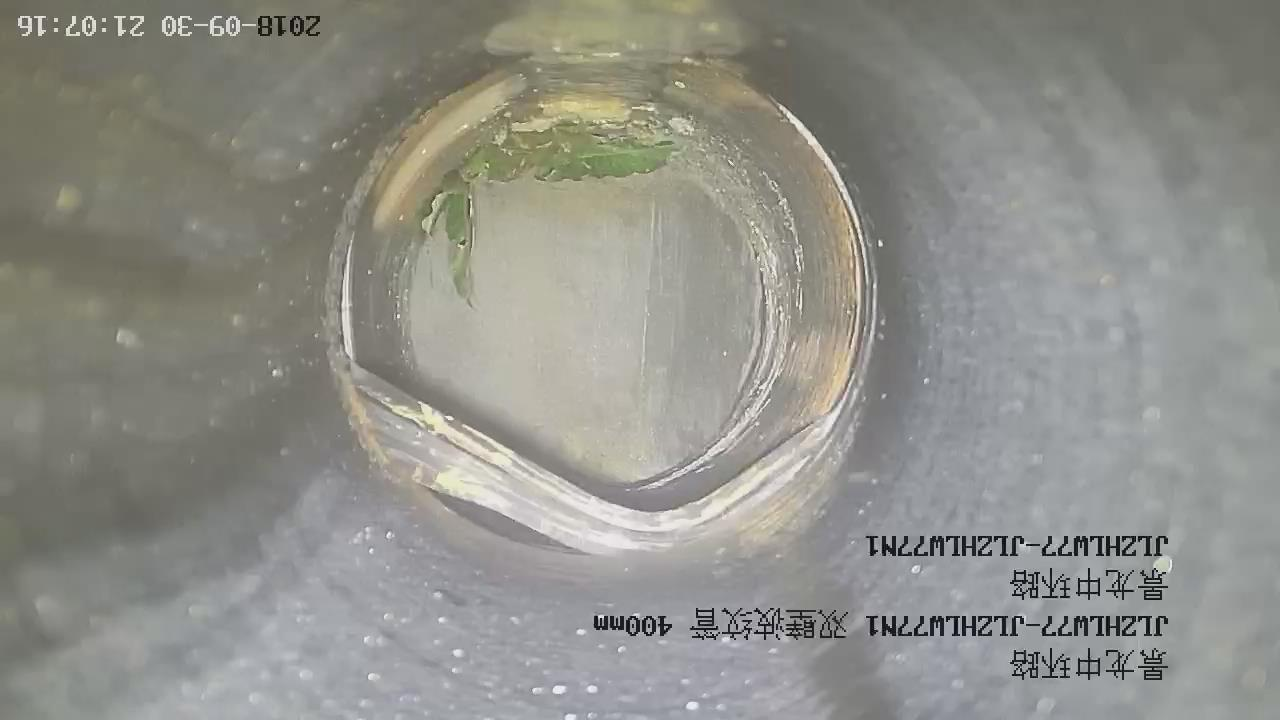JKCL: (338, 360, 839, 556)
